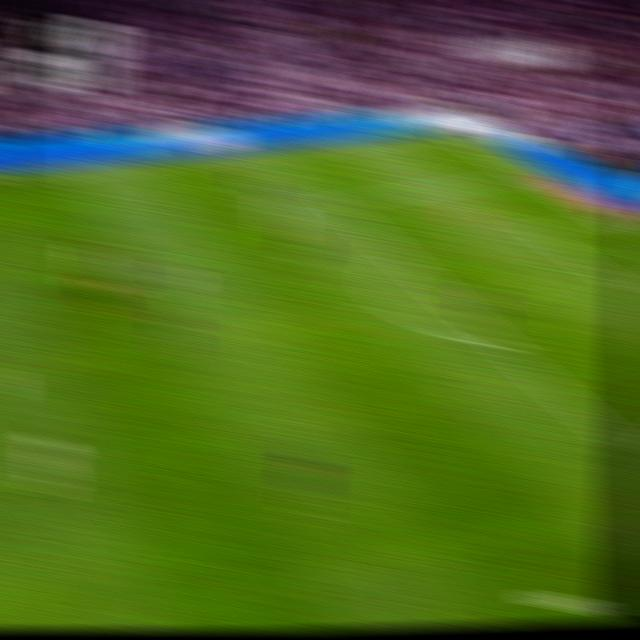bigarea_top_inner: (322, 193, 349, 210)
bigarea_top_outter: (507, 167, 535, 182)
bottom_arc_area_intersection: (489, 336, 521, 357)
corner: (433, 127, 461, 140)
smallarea_top_inner: (520, 221, 547, 237)
top_arc_area_intersection: (386, 247, 417, 267)
